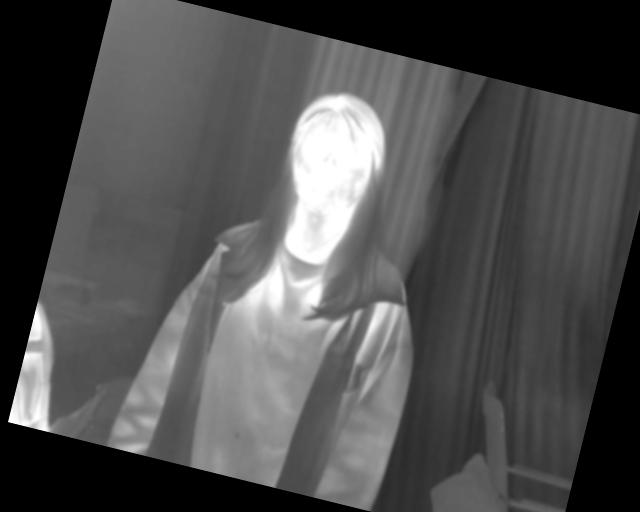face: (278, 83, 396, 228)
